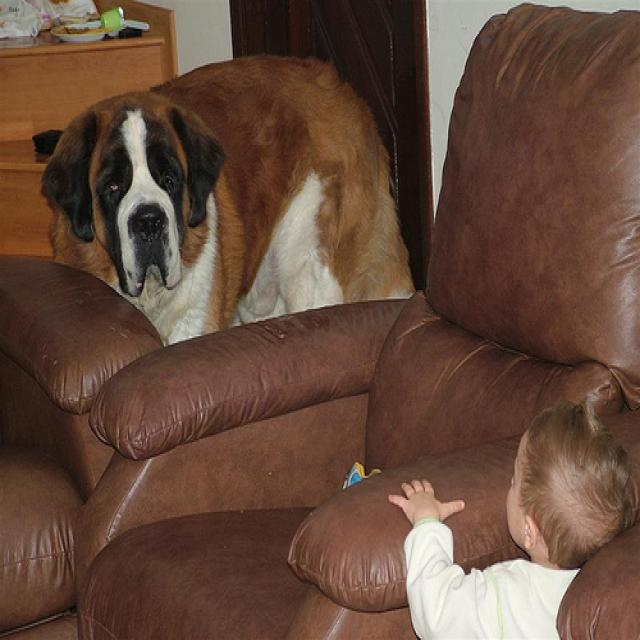dog-saint_bernard: (33, 44, 422, 357)
